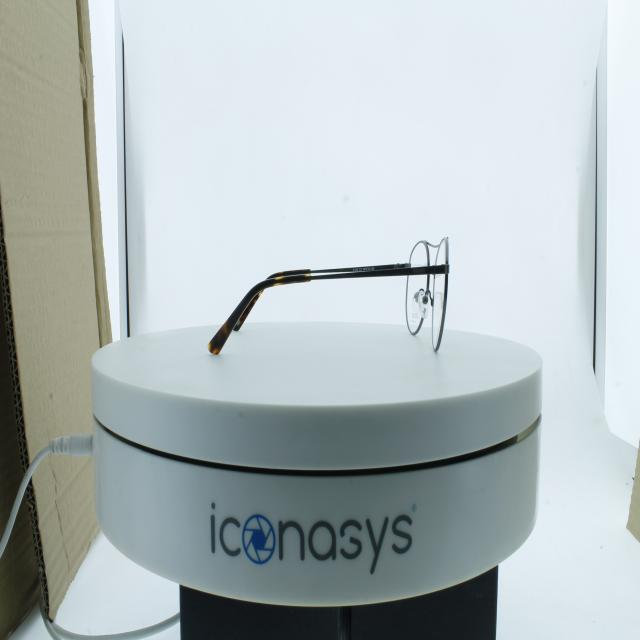Specs: (187, 218, 463, 364)
